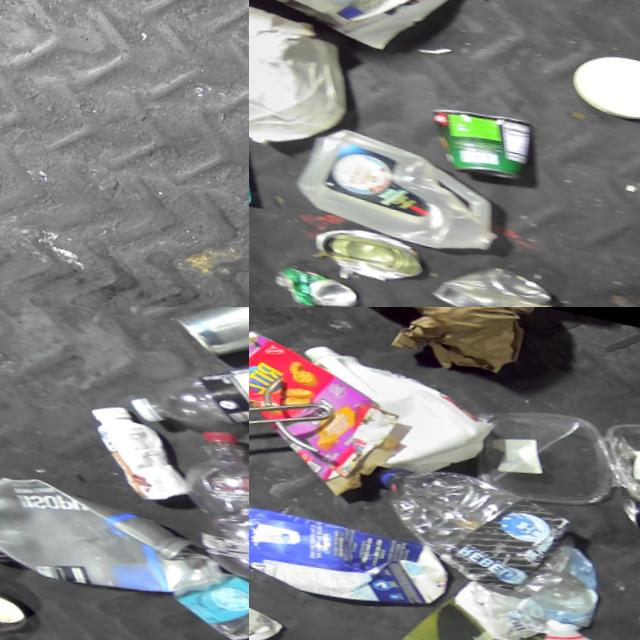can: (417, 93, 543, 185), (308, 216, 432, 289), (429, 248, 564, 307), (170, 307, 249, 367), (270, 260, 364, 307), (0, 503, 21, 563), (618, 485, 640, 537)
milk_jug: (289, 117, 519, 260), (288, 337, 505, 482)
non_white_jug: (0, 462, 231, 609), (249, 495, 457, 617)
plastic_bottle: (361, 450, 577, 596), (127, 325, 249, 454), (171, 420, 249, 587)
